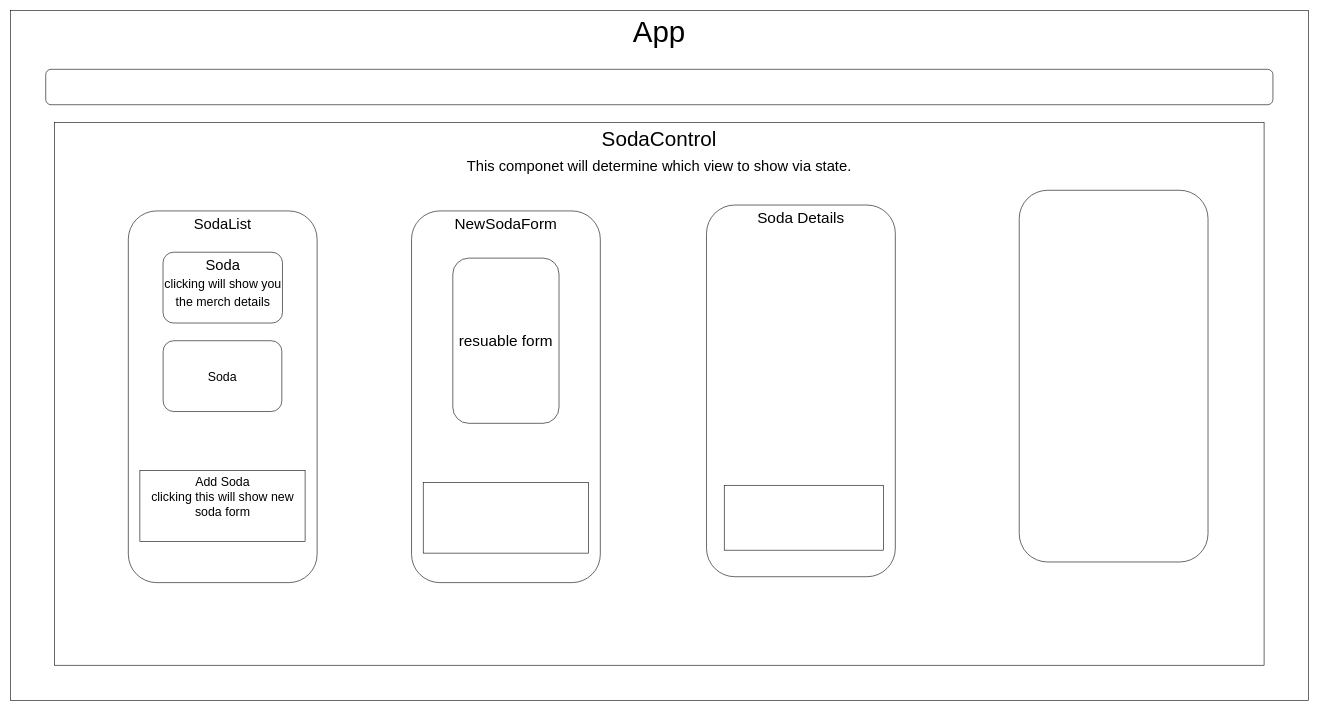
Some shapes in this 1319 by 711 pixel diagram are drawn without their labels. The shapes that lost their labels are listed below. From the top down, each one's centre as x and y in pixels, then its label:
the point at 659,87: Header
the point at 1113,376: TBD WIP
the point at 506,517: Submit clicking will add new sodapack to soda list
the point at 804,517: Sell drink this button will sell one ounce of a two liter
